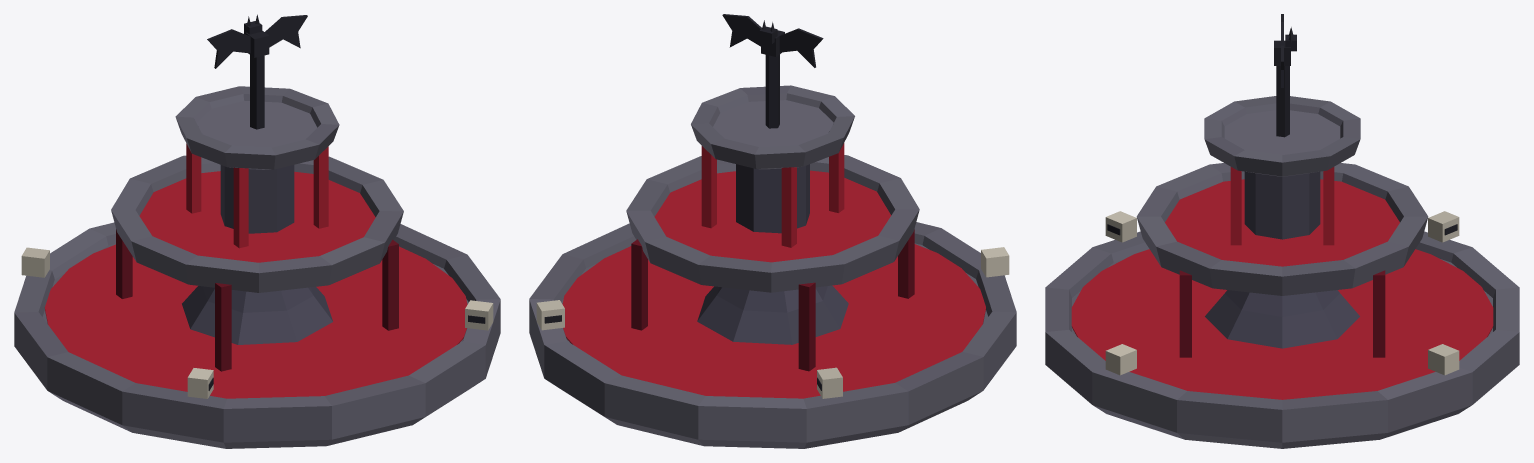
File: Decor_VampireCrypt_Fountain.fbx
The picture shows the model from 3 angles, left to right: view 1: azimuth 30°, elevation 25°; view 2: azimuth 150°, elevation 25°; view 3: azimuth 270°, elevation 25°; orthographic projection. The views are drawn at different scales.
Visible parts, largest first — view 1: Fountain_Body; view 2: Fountain_Body; view 3: Fountain_Body.
Part boxes in pixels (left/top/right/bottom): Fountain_Body: left=14, top=14, right=500, bottom=448; Fountain_Body: left=529, top=14, right=1016, bottom=448; Fountain_Body: left=1045, top=14, right=1519, bottom=448.
Size of the model in its own units: 16 by 12.2 by 16.
